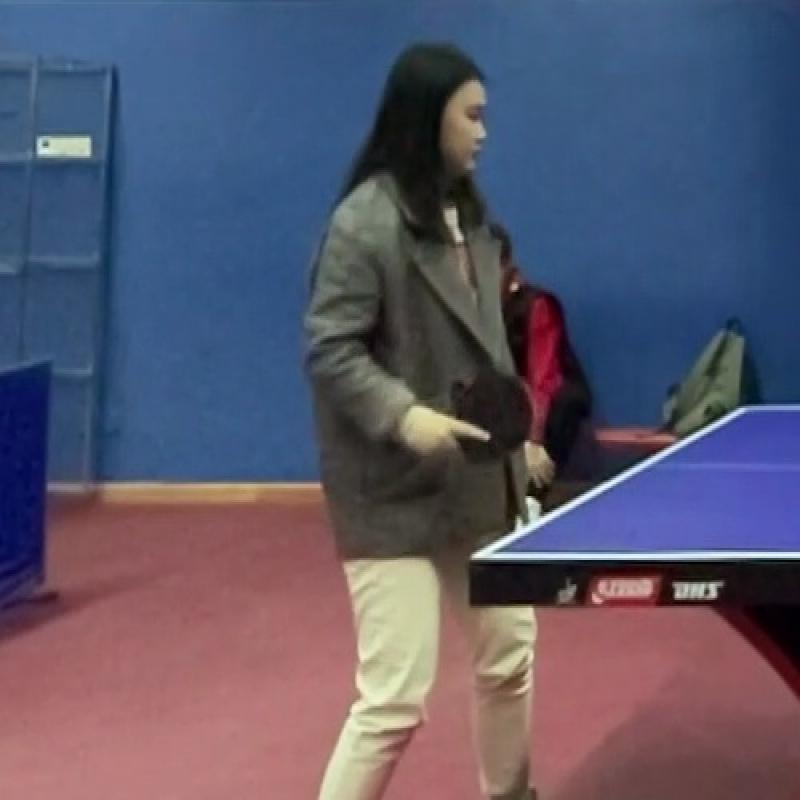bats: (438, 364, 540, 470)
